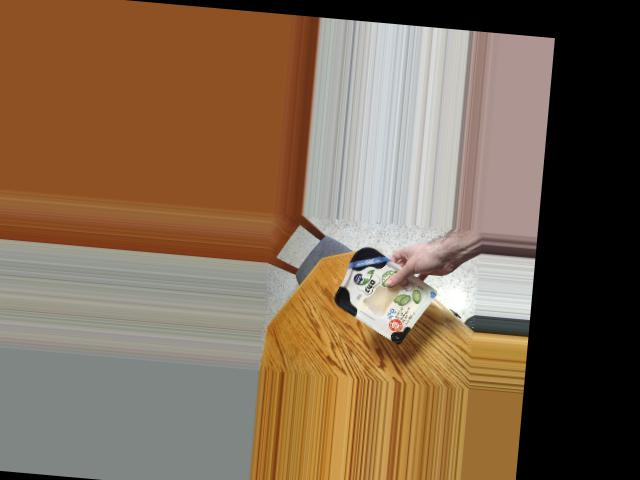cheese: (333, 246, 428, 340)
